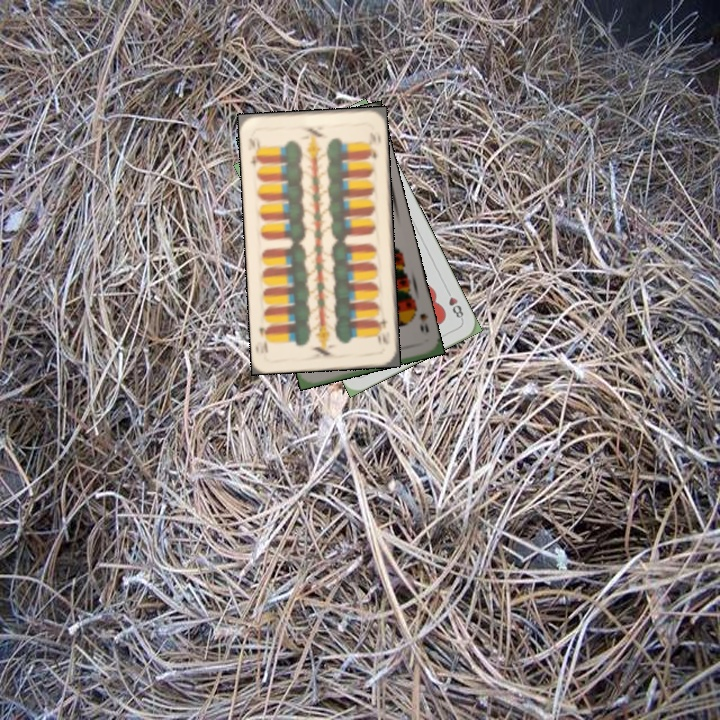E10: (373, 314, 392, 348), (244, 134, 263, 168)
H8: (442, 285, 466, 323)
S9: (408, 302, 431, 335)
